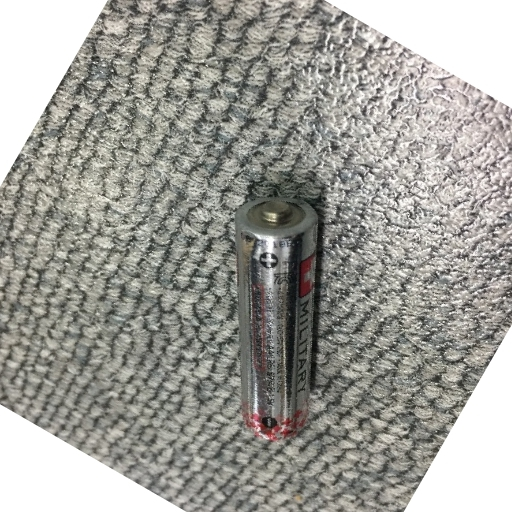Battery_0: (227, 188, 319, 445)
